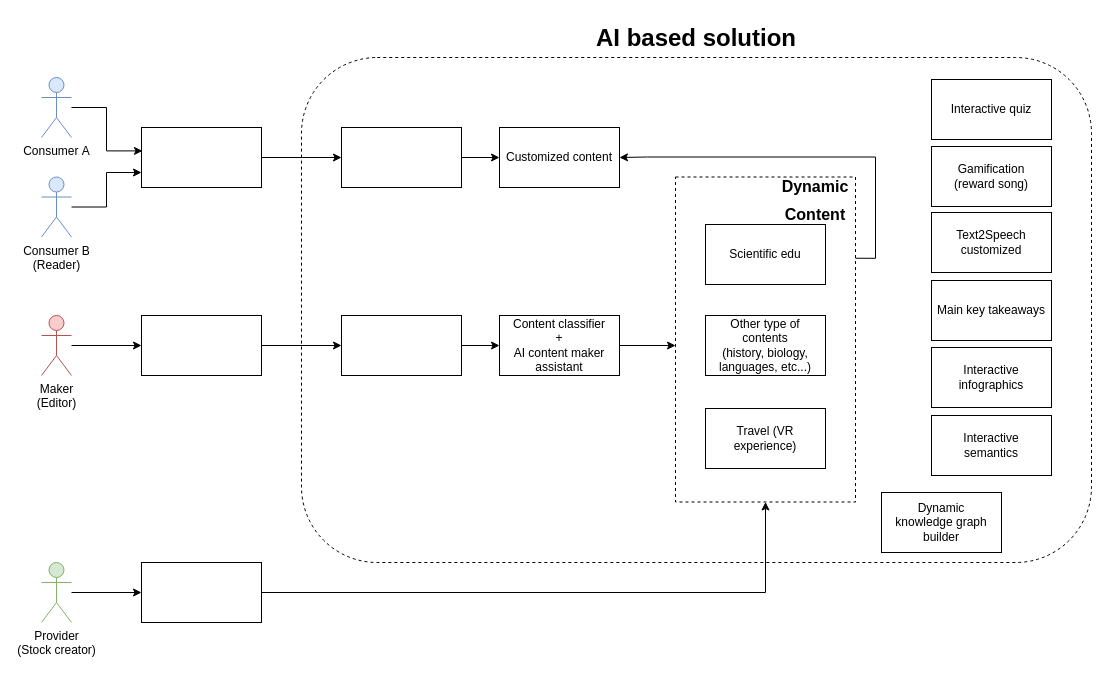
The diagram is 1109 pixels wide and 675 high, and some of its shapes have lost their labels. The shapes that lost their labels are listed below. From the top down, each one's centre as x and y in pixels, then its label:
At point 201,157: "Profile + personal interests".
At point 401,157: "AI functionalities filter".
At point 201,345: "Content".
At point 401,345: "AI functionalities enabler settings".
At point 201,592: "Stock video contents".
